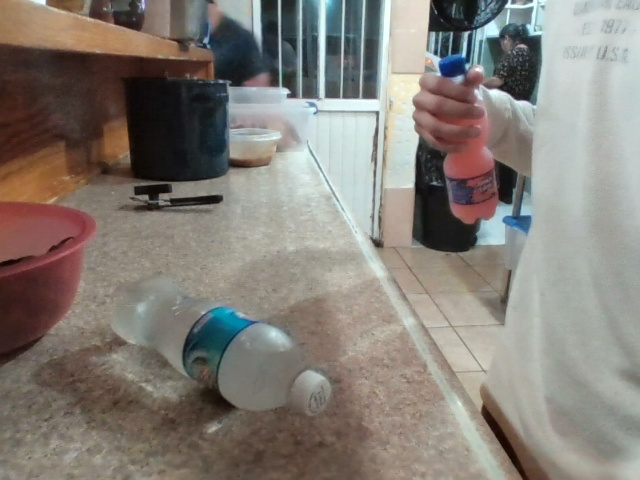botella: (93, 277, 391, 403), (404, 57, 548, 259)
